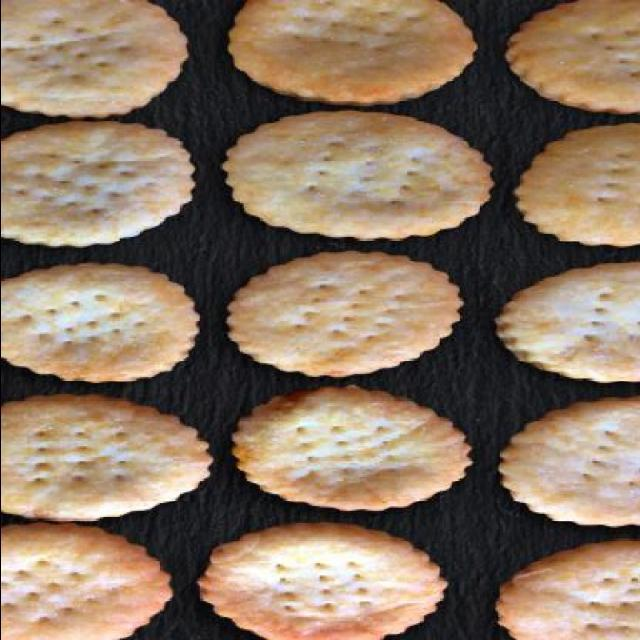Ritz cracker packaged: (229, 105, 489, 243), (195, 522, 462, 633), (240, 379, 463, 508), (218, 2, 486, 104), (234, 254, 452, 378), (0, 118, 196, 250), (1, 393, 210, 512), (7, 260, 188, 382), (2, 532, 185, 638)
